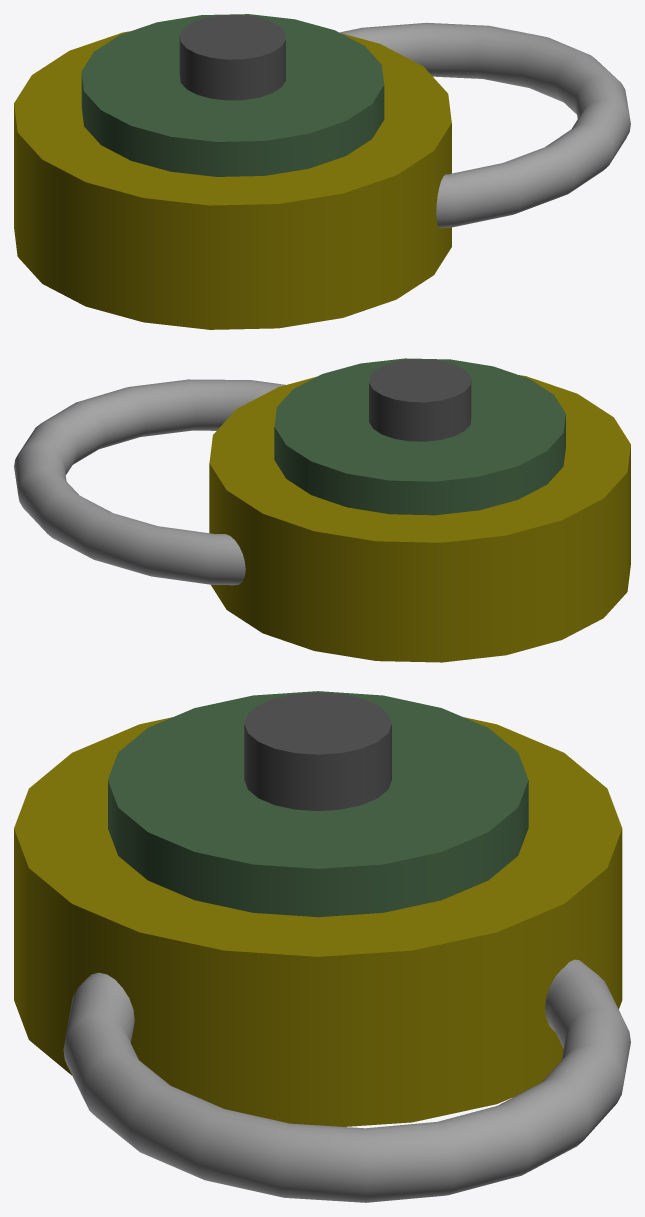
Rendered from lockmodel.fbx.
3 views of the same model, one above another, from view 1: azimuth 30°, elevation 25°; view 2: azimuth 150°, elevation 25°; view 3: azimuth 270°, elevation 25° (orthographic). The views are drawn at different scales.
Visible parts, largest first — view 1: lockhanger1; view 2: lockhanger1; view 3: lockhanger1.
Boxes of the visible parts, left/top/right/bottom form: lockhanger1: left=14, top=14, right=630, bottom=329; lockhanger1: left=14, top=358, right=630, bottom=662; lockhanger1: left=14, top=691, right=630, bottom=1202.
Bounding box in the file's own units: 0.9452 × 0.3137 × 0.634.
